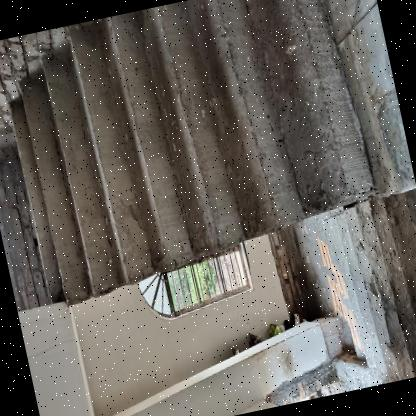stair: (0, 0, 416, 287)
